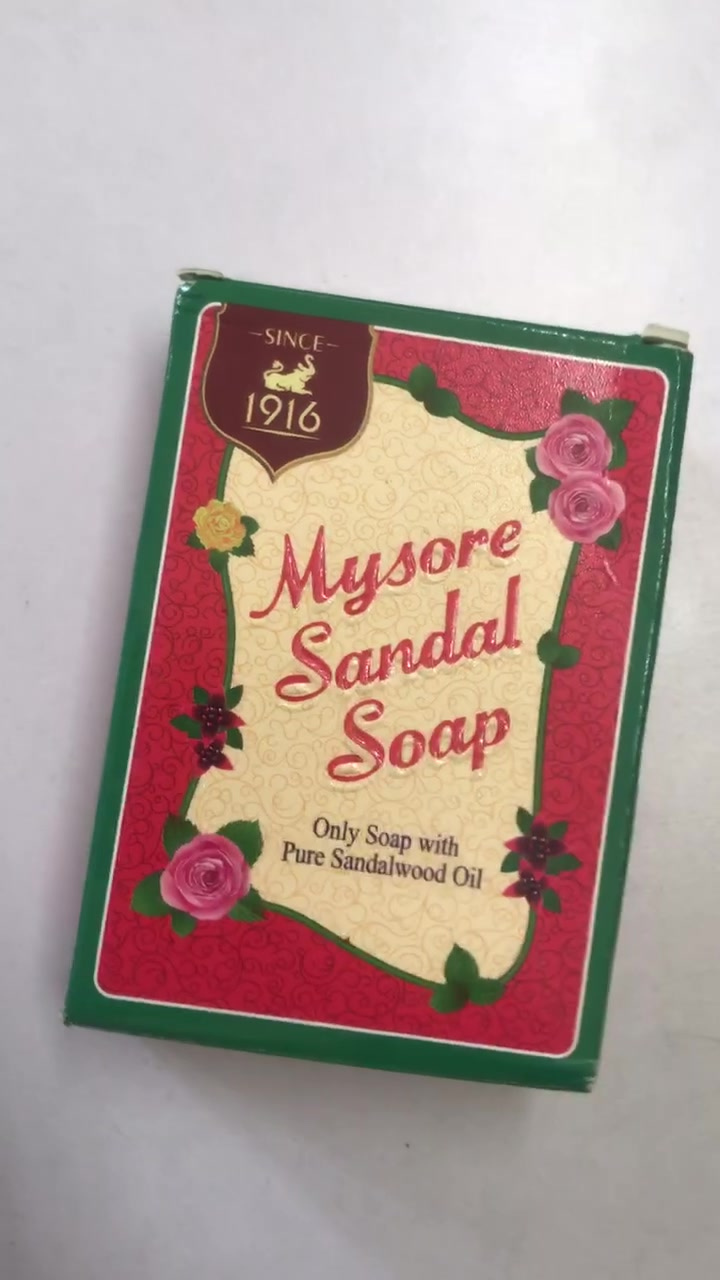mysore sandal soap: (62, 275, 694, 1099)
